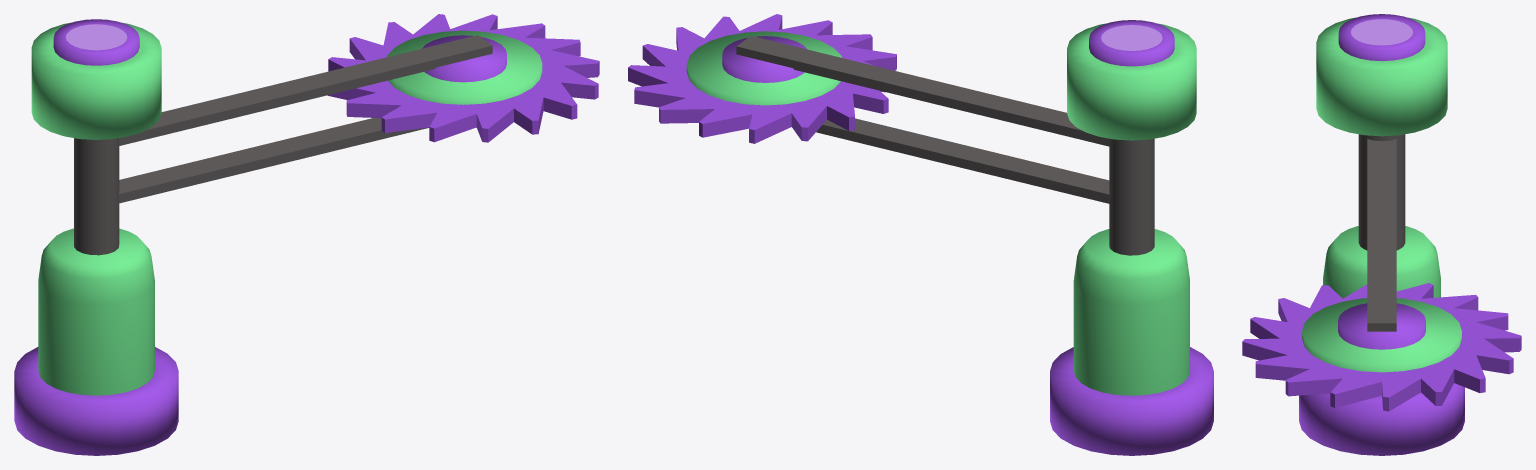
The model's file is Obstacle 16 V4.fbx.
3 renders of one model, left to right at view 1: azimuth 30°, elevation 25°; view 2: azimuth 150°, elevation 25°; view 3: azimuth 270°, elevation 25°, orthographic.
Visible parts, largest first — view 1: O16 Part 3, O16 Part 1, O16 Part 2; view 2: O16 Part 3, O16 Part 1, O16 Part 2; view 3: O16 Part 3, O16 Part 1, O16 Part 2.
Part boxes in pixels (left/top/right/bottom): O16 Part 3: left=14, top=19, right=178, bottom=455; O16 Part 1: left=327, top=14, right=599, bottom=142; O16 Part 2: left=74, top=35, right=492, bottom=255; O16 Part 3: left=1050, top=20, right=1213, bottom=455; O16 Part 1: left=628, top=14, right=896, bottom=143; O16 Part 2: left=736, top=36, right=1154, bottom=255; O16 Part 3: left=1299, top=14, right=1464, bottom=455; O16 Part 1: left=1242, top=283, right=1521, bottom=411; O16 Part 2: left=1358, top=134, right=1405, bottom=331.
Bounding box in the file's own units: 177 × 116 × 75.75.
Materials: 1 (1 with a texture image).
